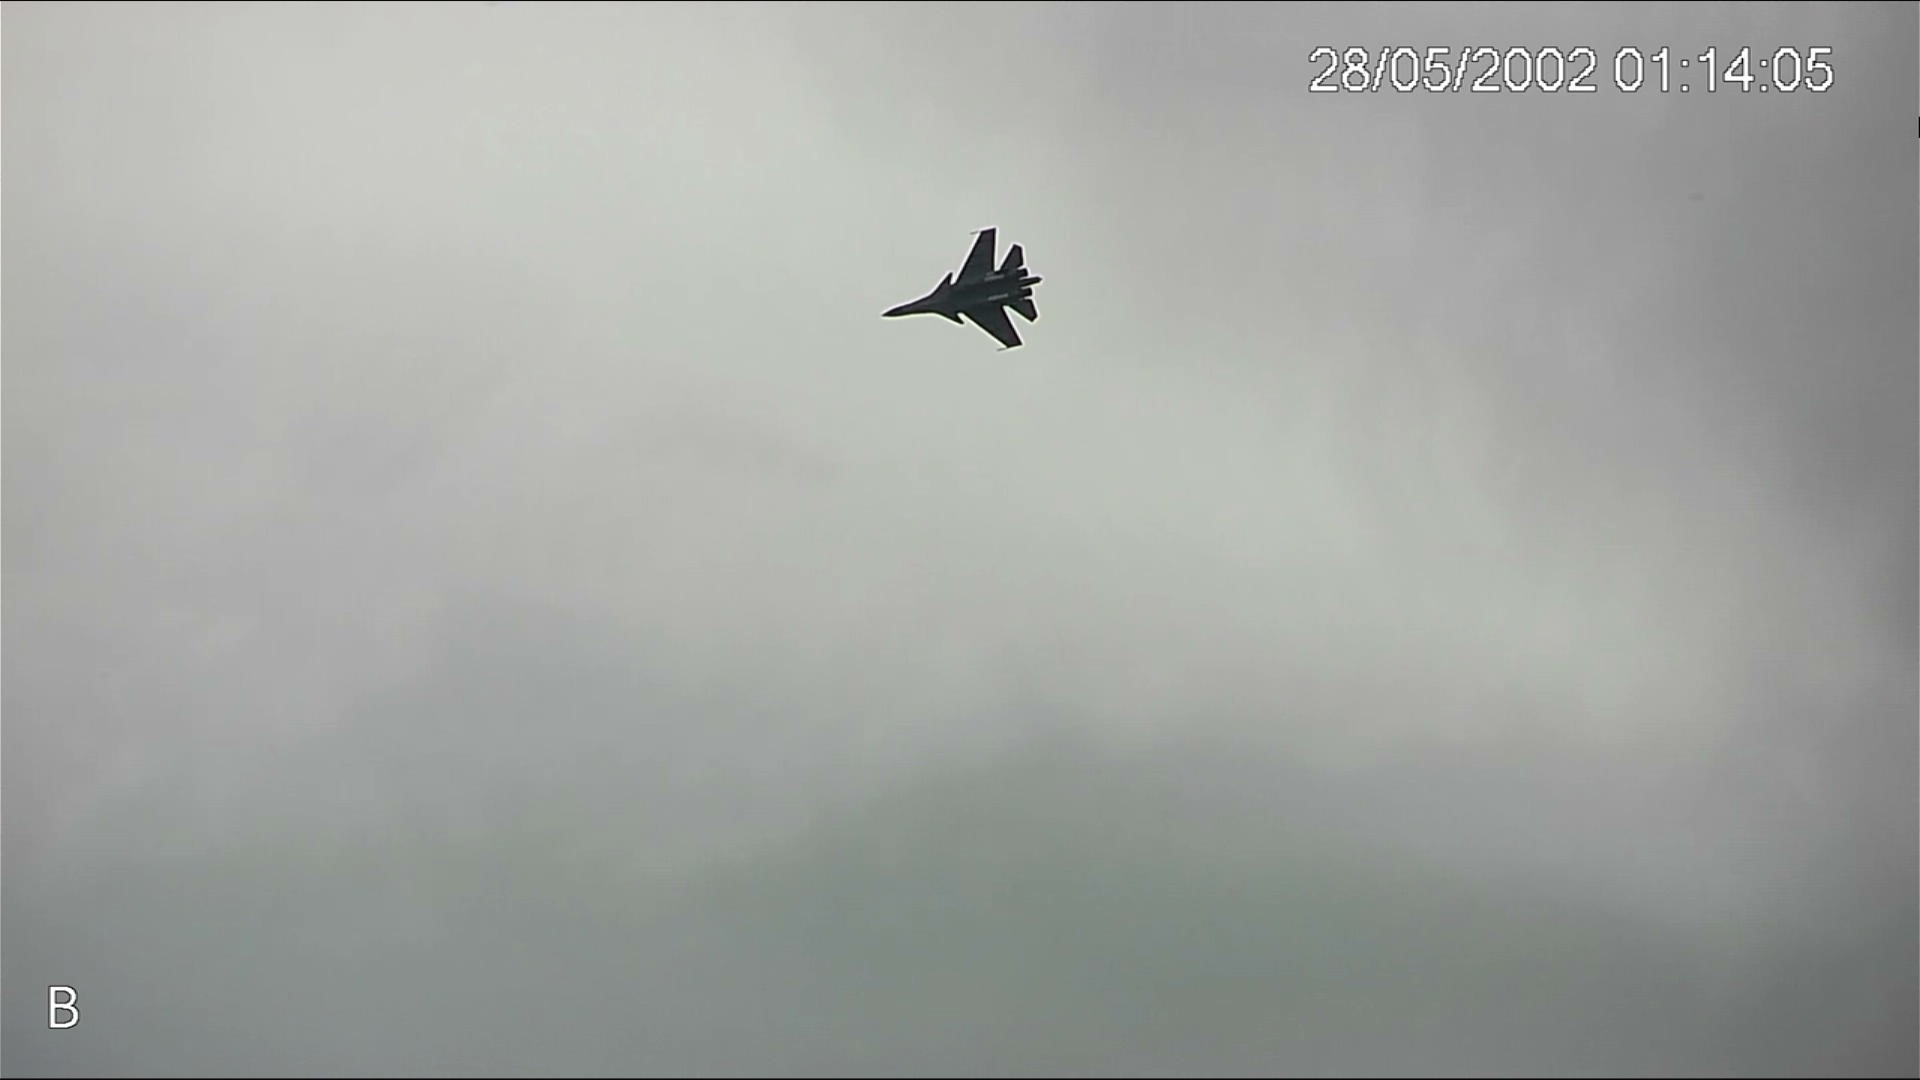SU_30: (880, 222, 1039, 356)
